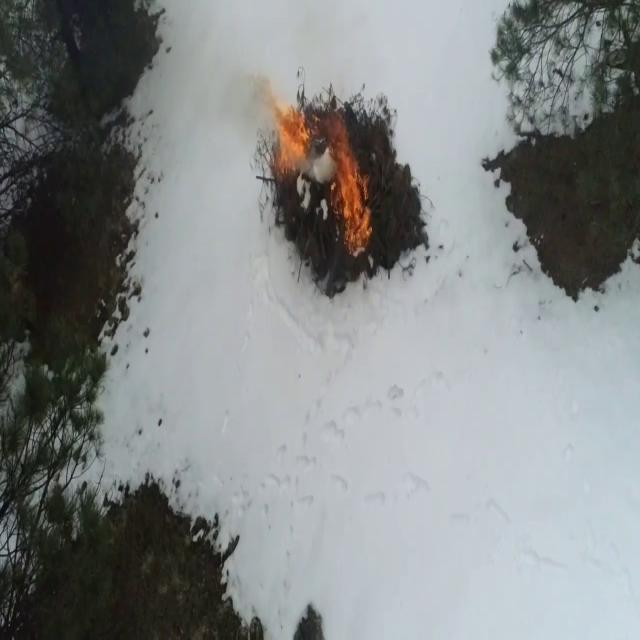fire: (328, 125, 373, 254), (274, 105, 306, 172)
